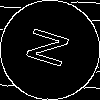N: (25, 25, 79, 74)
